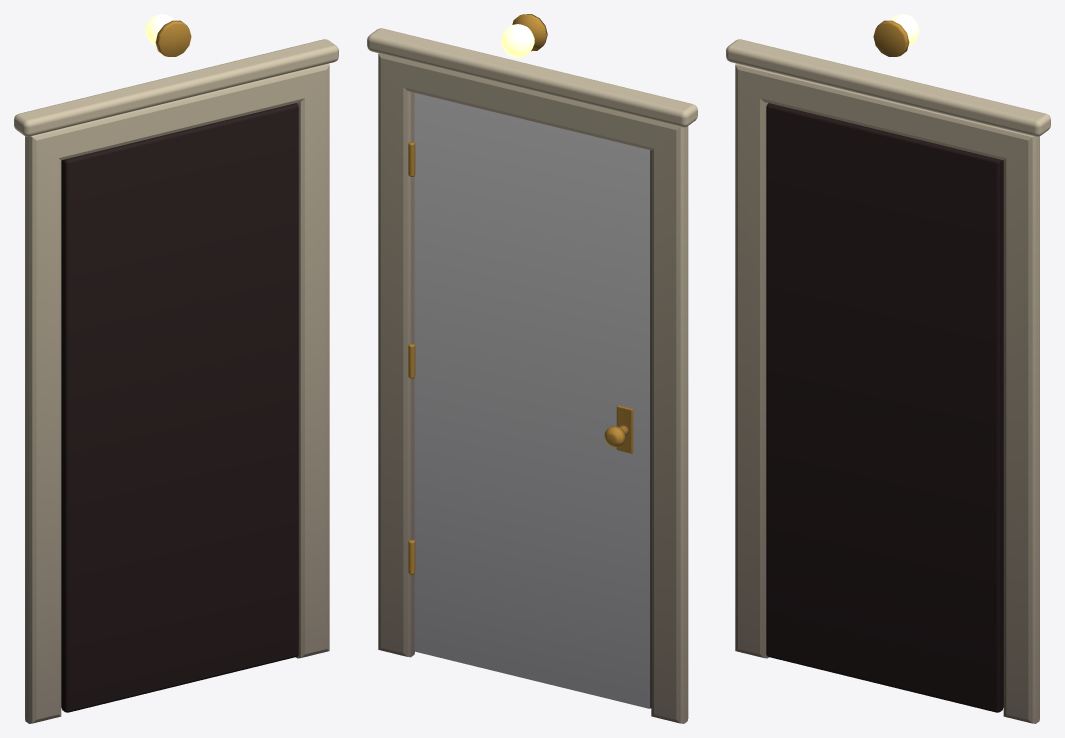
File: dressing_room_door__093.glb
The picture shows the model from 3 angles, left to right: view 1: azimuth 30°, elevation 25°; view 2: azimuth 150°, elevation 25°; view 3: azimuth 330°, elevation 25°; orthographic projection.
Parts seen in each view (by area): view 1: merged_toon_ffffff, merged_toon_C8963C; view 2: prop_dressing_room_door, merged_toon_ffffff, merged_toon_C8963C; view 3: merged_toon_ffffff, merged_toon_C8963C.
Part boxes in pixels (x1,y1,x2,y2): merged_toon_ffffff: [14, 39, 338, 723]; merged_toon_C8963C: [155, 20, 191, 56]; prop_dressing_room_door: [414, 24, 650, 708]; merged_toon_ffffff: [367, 28, 697, 723]; merged_toon_C8963C: [408, 14, 633, 574]; merged_toon_ffffff: [726, 39, 1050, 723]; merged_toon_C8963C: [873, 20, 909, 56].
Size of the model in its own units: 1.2 by 2.4 by 0.1942.
